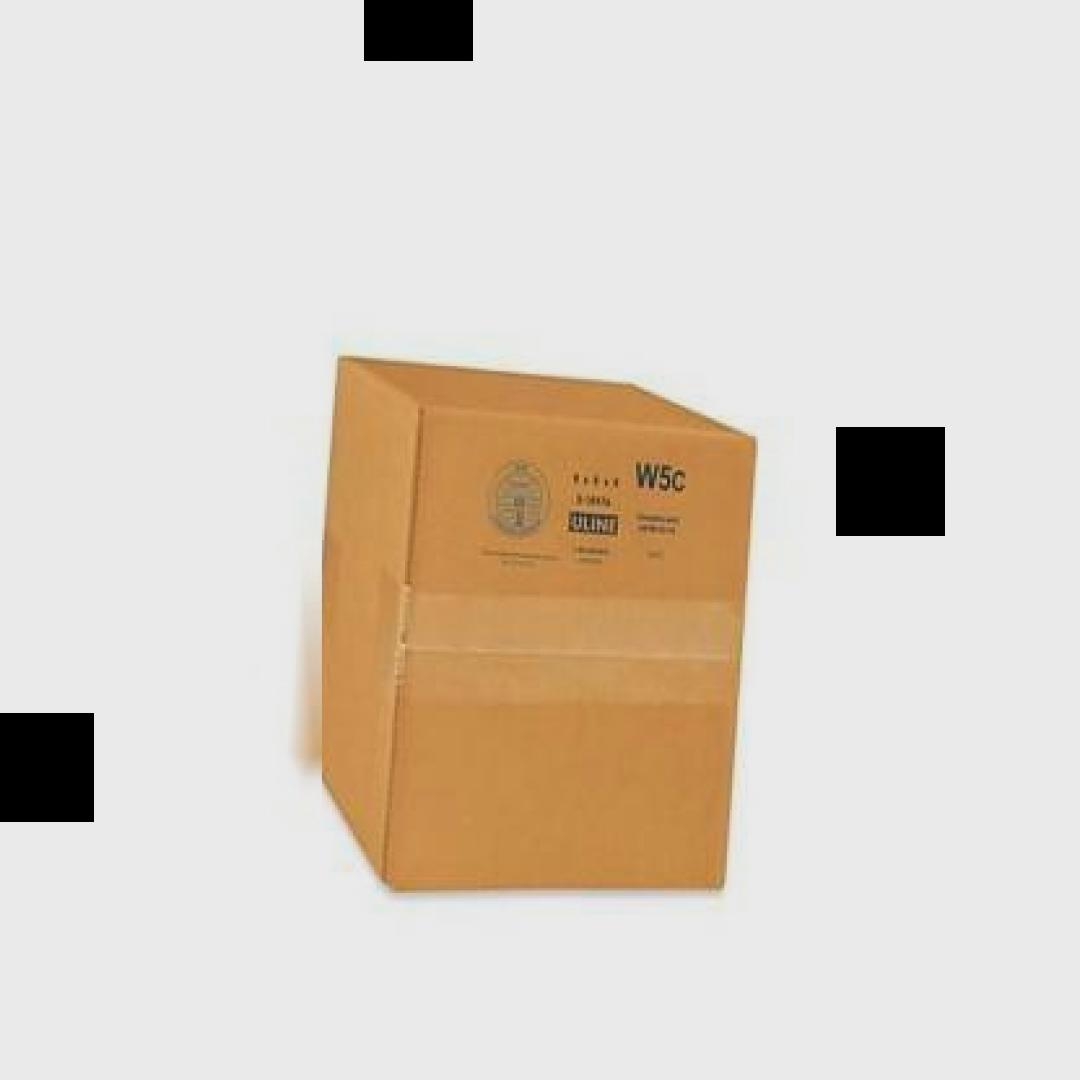package: (308, 356, 756, 896)
